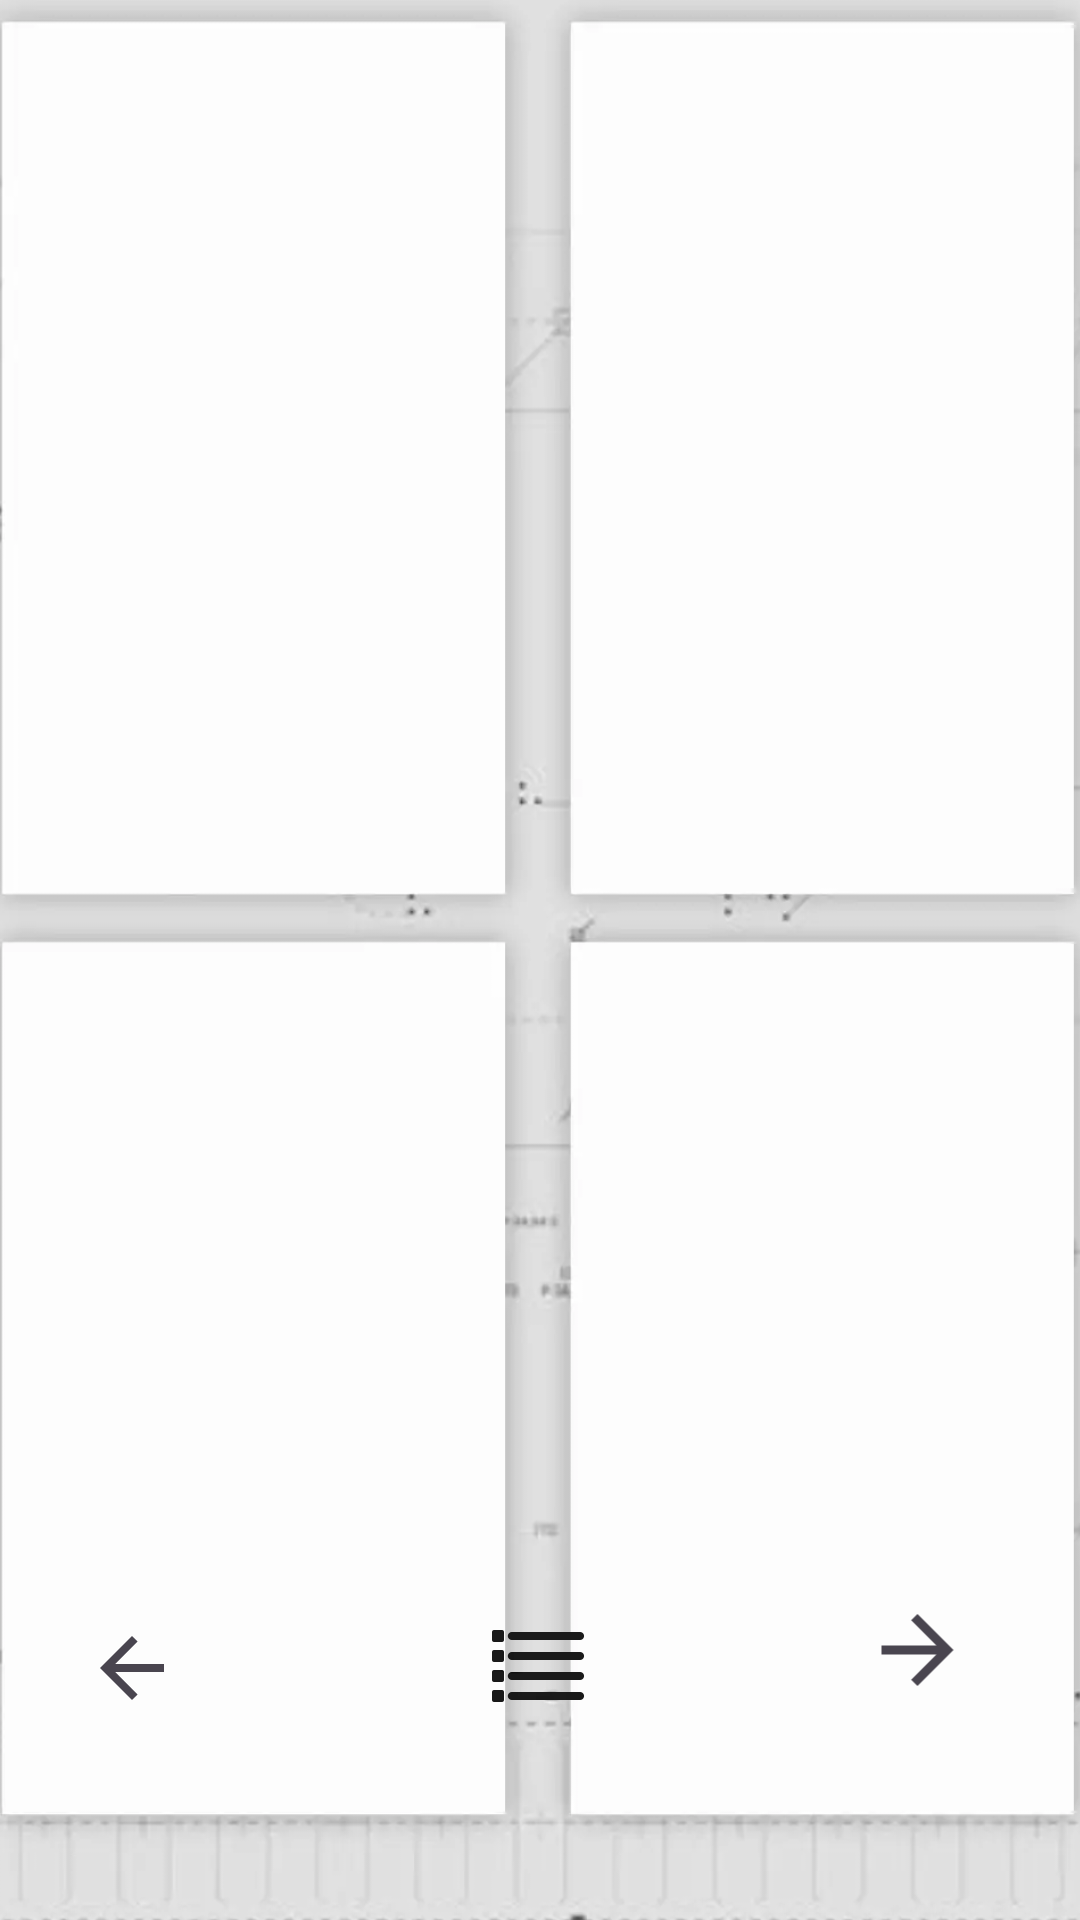

Where icons sit on this 1080x1920 app screen, as region(x1, y1, x2, y2):
list: region(492, 1616, 584, 1716)
